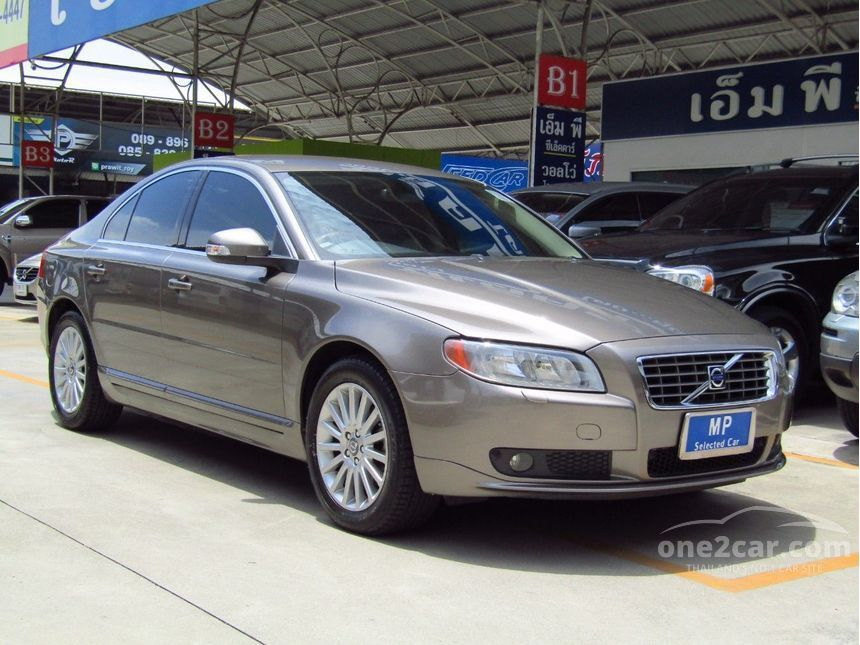sedan: (31, 148, 795, 533)
